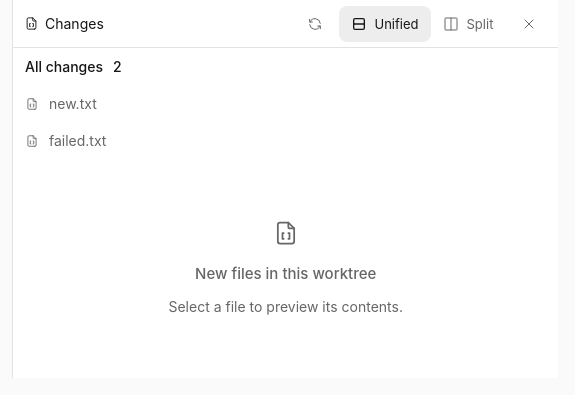
Test case: loads an untracked file as additions and reports read errors as errors
The image size is (575, 395).
Click the button "new.txt" at (73, 104), box x1=13 y1=85 x2=558 y2=122
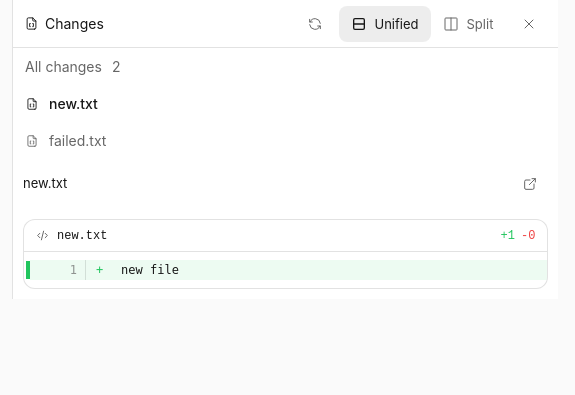
Click the button "failed.txt" at (78, 140), box x1=13 y1=122 x2=558 y2=159
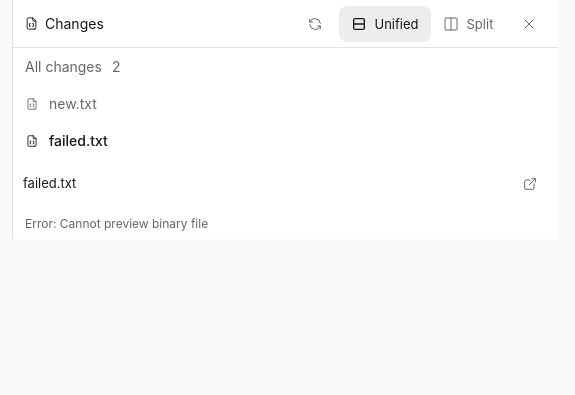
Expected: the text "1 added, 0 removed" is not shown
Result: the message shows "Cannot preview binary file" at x1=25 y1=216 x2=208 y2=231
